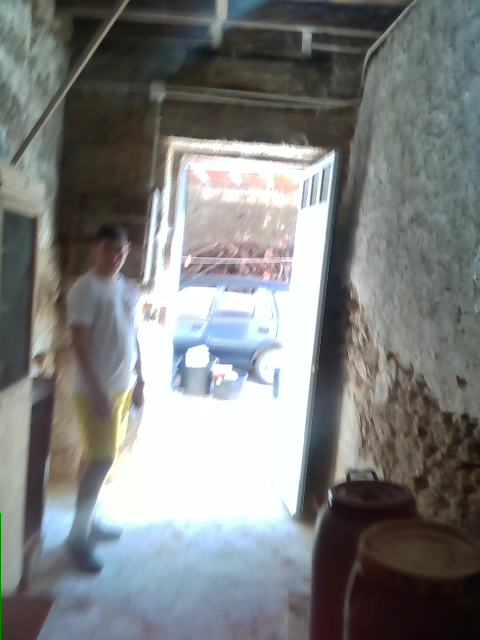open: (149, 141, 336, 520)
